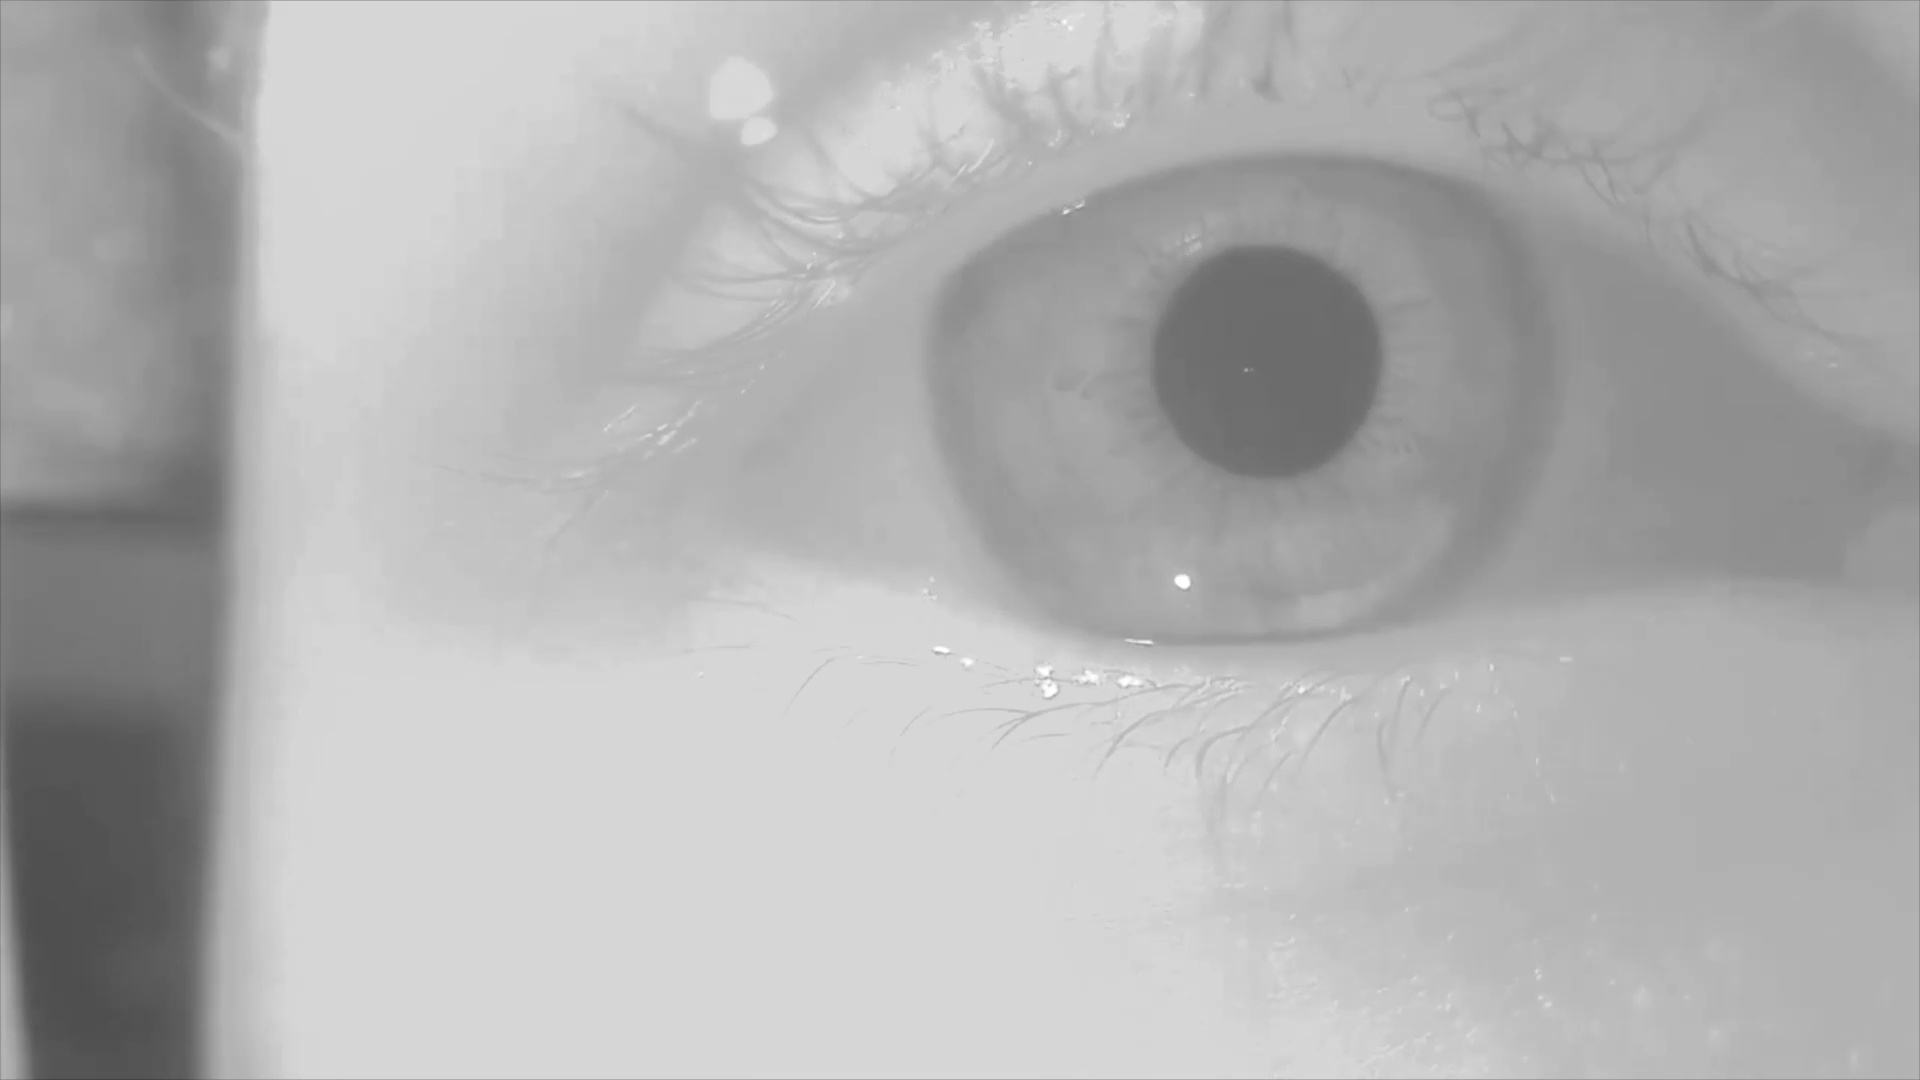pupil: (1151, 250, 1384, 473)
